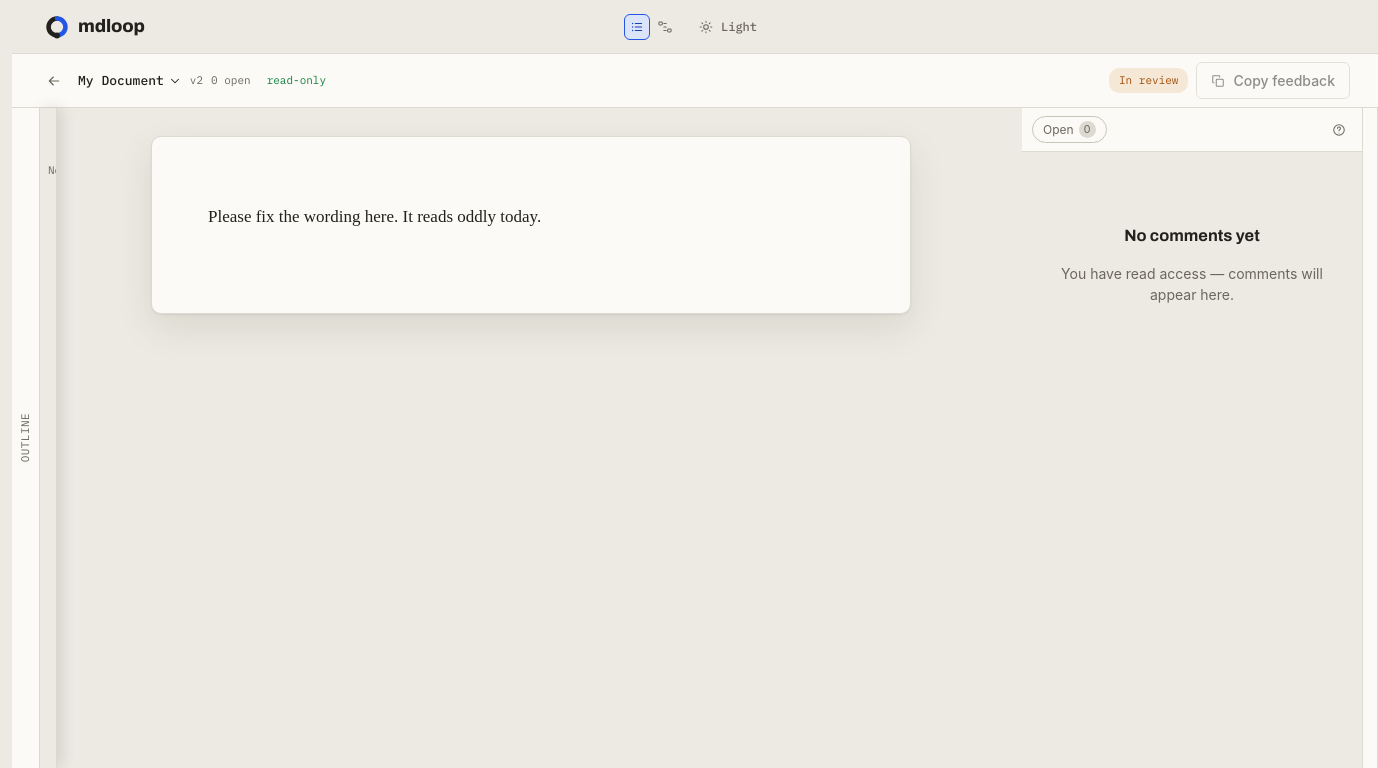
it: Viewer — document switcher (Phase 33.E) › closes on Escape
Click the button "My Document" at x=130, y=81, box [74,69,186,92]
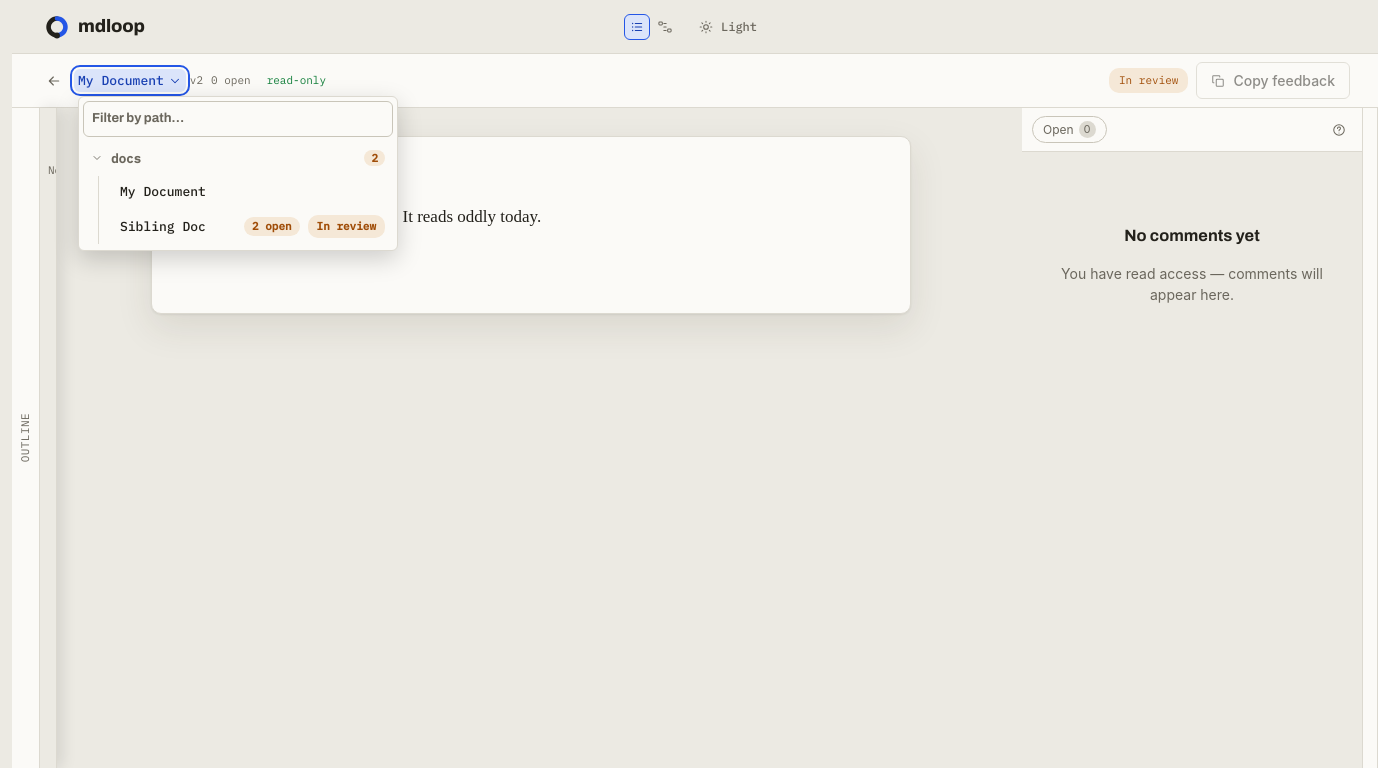
Check: the text "Sibling Doc" is shown, box [120,218,206,234]
Press Escape
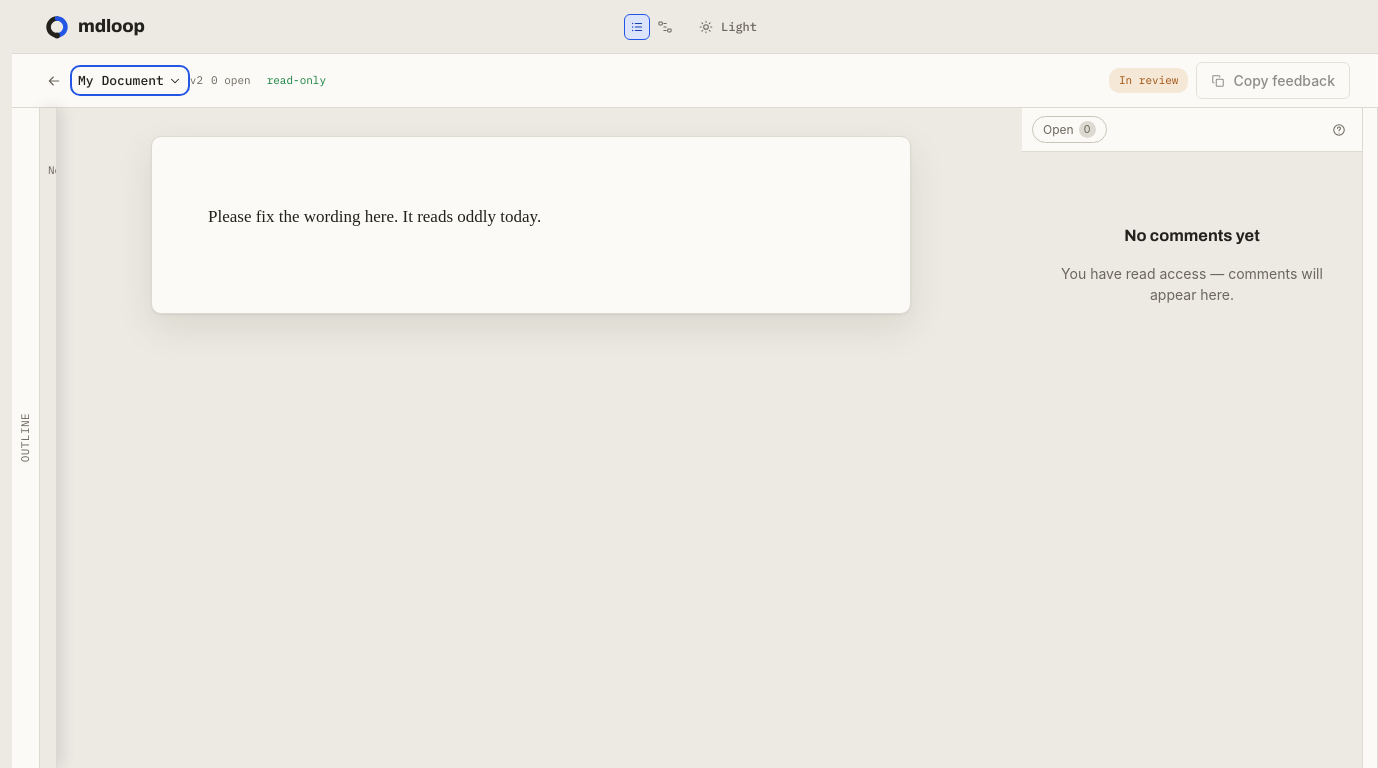
Check: the option "Sibling Doc" is gone
